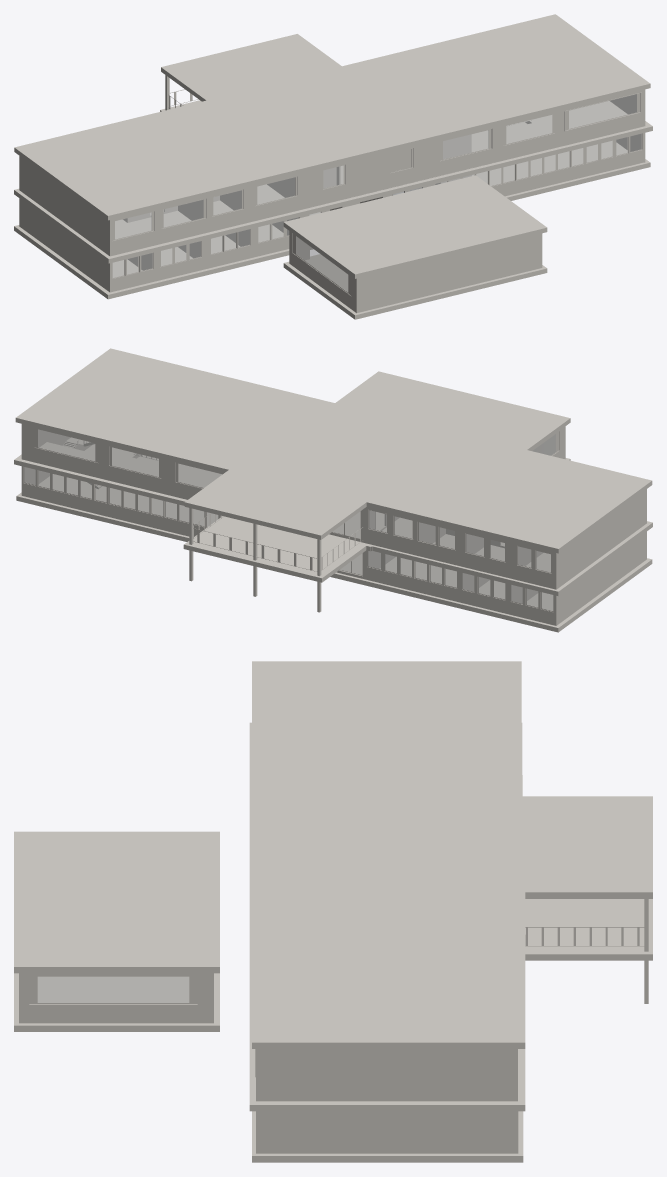
File: washroom_gents_walk.glb
3 views of the same model, one above another, from view 1: azimuth 30°, elevation 25°; view 2: azimuth 150°, elevation 25°; view 3: azimuth 270°, elevation 25° (orthographic). The views are drawn at different scales.
Parts seen in each view (by area): view 1: BEYOND_L2_SLAB, BEYOND_L0_WALL, BEYOND_L1_WALL, BEYOND_L0_SLAB, BEYOND_L1_SLAB, BEYOND_L1_GLASS, BEYOND_L0_GLASS, UPPER_in_zone, BEYOND_L1_FRAME, BEYOND_L0_FRAME, BEYOND_L1_OTHER, BEYOND_L0_OTHER; view 2: BEYOND_L2_SLAB, BEYOND_L1_WALL, BEYOND_L1_SLAB, BEYOND_L0_WALL, BEYOND_L0_SLAB, BEYOND_L1_GLASS, BEYOND_L0_GLASS, BEYOND_L1_FRAME, BEYOND_L0_FRAME, UPPER_in_zone, BEYOND_L1_OTHER, BEYOND_L1_STAIR (+3 smaller); view 3: BEYOND_L2_SLAB, BEYOND_L0_WALL, BEYOND_L1_WALL, BEYOND_L1_SLAB, BEYOND_L0_SLAB, BEYOND_L0_GLASS, UPPER_in_zone, BEYOND_L0_FRAME.
Boxes of the visible parts, box(x1,y1,x2,y2) form: BEYOND_L2_SLAB: box(14, 14, 650, 278); BEYOND_L0_WALL: box(19, 133, 645, 313); BEYOND_L1_WALL: box(19, 89, 645, 256); BEYOND_L0_SLAB: box(14, 122, 650, 319); BEYOND_L1_SLAB: box(14, 100, 652, 263); BEYOND_L1_GLASS: box(115, 94, 636, 238); BEYOND_L0_GLASS: box(113, 134, 641, 291); UPPER_in_zone: box(359, 114, 432, 188); BEYOND_L1_FRAME: box(113, 93, 640, 240); BEYOND_L0_FRAME: box(112, 134, 642, 295); BEYOND_L1_OTHER: box(112, 89, 641, 240); BEYOND_L0_OTHER: box(124, 133, 642, 295); BEYOND_L2_SLAB: box(15, 348, 652, 553); BEYOND_L1_WALL: box(21, 424, 646, 589); BEYOND_L1_SLAB: box(14, 442, 652, 596); BEYOND_L0_WALL: box(21, 426, 646, 625); BEYOND_L0_SLAB: box(16, 444, 652, 632); BEYOND_L1_GLASS: box(38, 429, 550, 572); BEYOND_L0_GLASS: box(24, 434, 555, 610); BEYOND_L1_FRAME: box(34, 428, 551, 573); BEYOND_L0_FRAME: box(23, 431, 558, 611); UPPER_in_zone: box(297, 402, 370, 433); BEYOND_L1_OTHER: box(34, 428, 551, 573); BEYOND_L1_STAIR: box(136, 454, 500, 570); BEYOND_L2_SLAB: box(14, 661, 652, 1048); BEYOND_L0_WALL: box(19, 973, 518, 1153); BEYOND_L1_WALL: box(256, 1049, 517, 1101); BEYOND_L1_SLAB: box(249, 722, 652, 1111); BEYOND_L0_SLAB: box(14, 775, 523, 1162); BEYOND_L0_GLASS: box(38, 977, 188, 1002); UPPER_in_zone: box(256, 858, 336, 890); BEYOND_L0_FRAME: box(29, 976, 197, 1003).
Size of the model in its own units: 38.22 by 5.6 by 27.
Materials: 11 (8 with a texture image).
